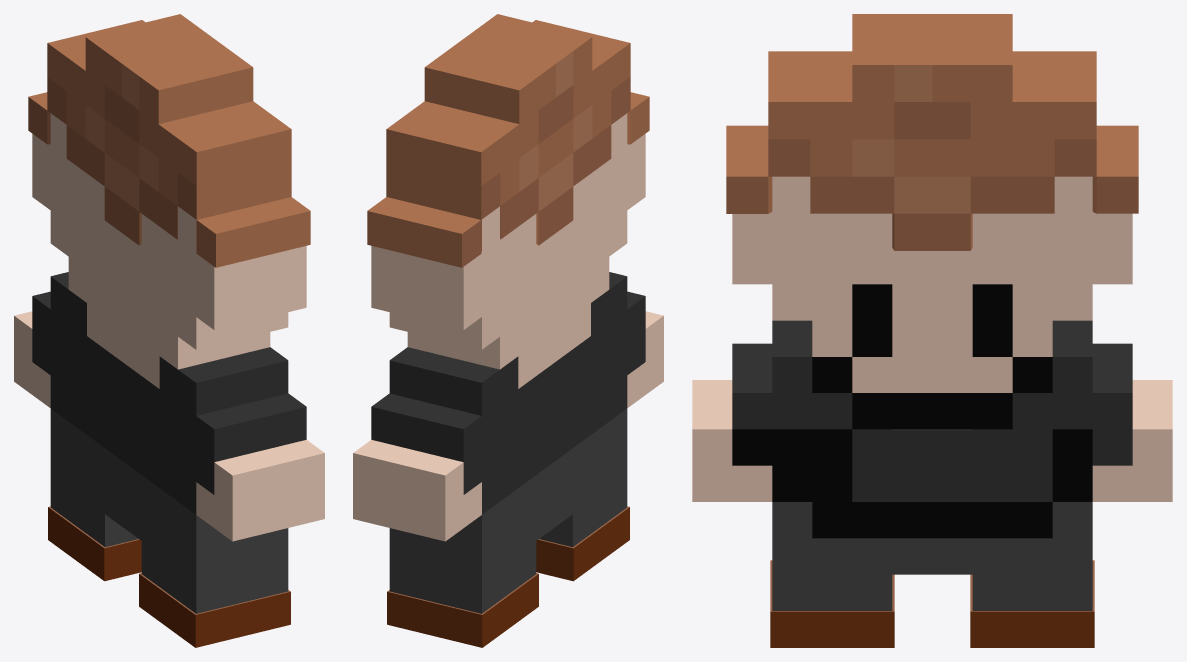
File: 2d_character.glb
The picture shows the model from 3 angles, left to right: view 1: azimuth 30°, elevation 25°; view 2: azimuth 150°, elevation 25°; view 3: azimuth 270°, elevation 25°; orthographic projection. The views are drawn at different scales.
Parts seen in each view (by area): view 1: Object_6, Object_10, Object_11, Object_12, Object_8, Object_4, Object_5; view 2: Object_6, Object_10, Object_11, Object_12, Object_8, Object_4, Object_5; view 3: Object_6, Object_10, Object_11, Object_7, Object_12, Object_4, Object_8, Object_5, Object_9.
Part boxes in pixels (box(x1,y1,x2,y2)): Object_6: box(14, 113, 324, 541); Object_10: box(28, 14, 310, 267); Object_11: box(32, 272, 306, 514); Object_12: box(50, 409, 288, 613); Object_8: box(48, 507, 290, 647); Object_4: box(28, 77, 290, 614); Object_5: box(85, 64, 158, 211); Object_6: box(353, 113, 663, 541); Object_10: box(367, 14, 649, 267); Object_11: box(371, 272, 645, 514); Object_12: box(389, 409, 627, 613); Object_8: box(387, 507, 629, 647); Object_4: box(387, 77, 630, 614); Object_5: box(519, 51, 592, 211); Object_6: box(692, 176, 1172, 501); Object_10: box(726, 14, 1138, 250); Object_11: box(732, 320, 1132, 501); Object_7: box(732, 357, 1092, 538); Object_12: box(772, 502, 1092, 610); Object_4: box(726, 102, 1138, 611); Object_8: box(770, 611, 1094, 647); Object_5: box(852, 65, 970, 213); Object_9: box(852, 284, 1012, 356).
Size of the model in its own units: 0.1783 by 0.9421 by 0.7037.
